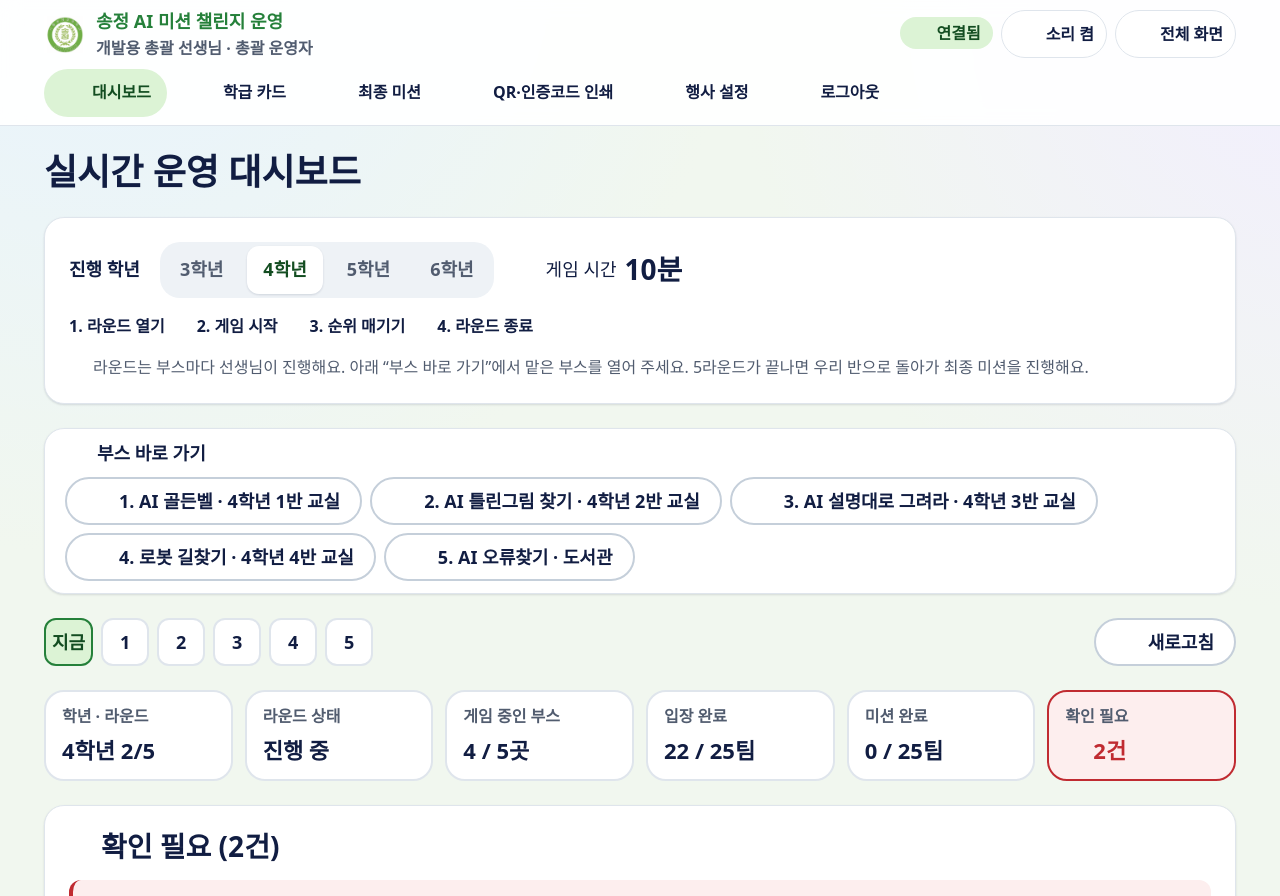
실시간 운영 대시보드 › 종료하지 않은 부스 라운드가 있으면 진행 학년을 바꾸지 못하고 이유를 알려 준다
What coordinates should you click on to do the following:
click the button "5학년"
I would click on:
 (368, 270)
Its box is [331,246,406,294].
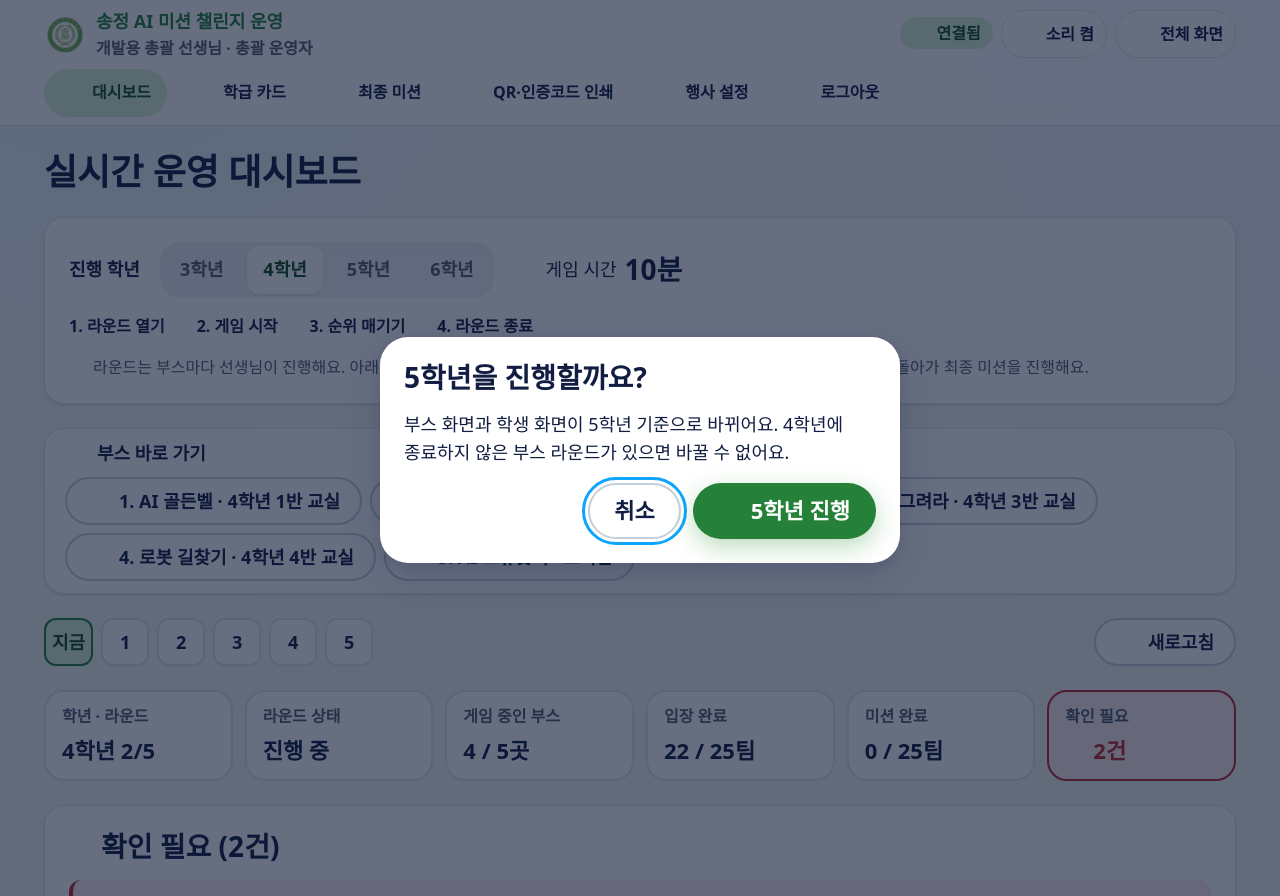
What coordinates should you click on to do the following:
click the button "5학년 진행"
I would click on:
 (784, 511)
Its box is [693,483,876,539].
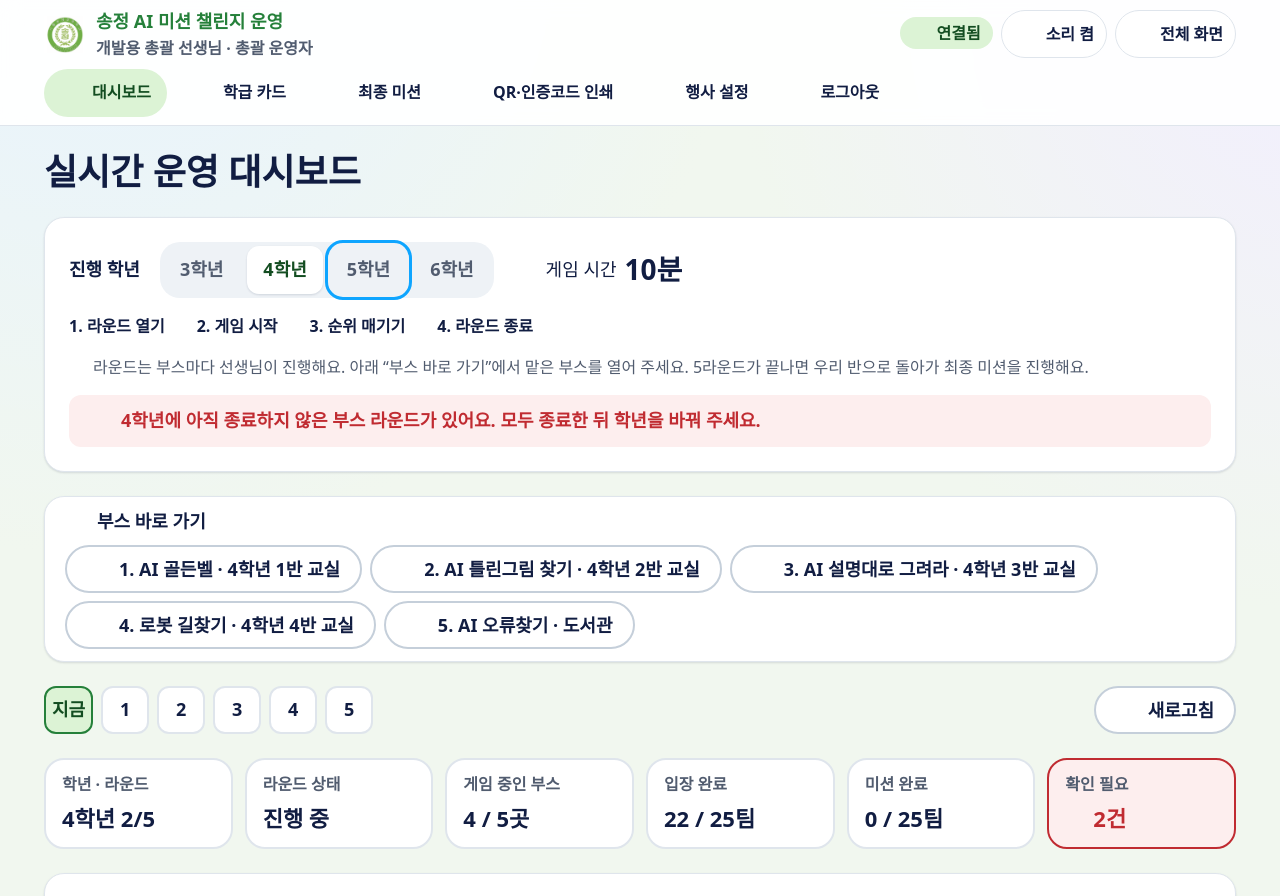
Now the text "4학년에 아직 종료하지 않은 부스 라운드가 있어요. 모두 종료한 뒤 학년을 바꿔 주세요." is shown, box [121,408,761,432]
